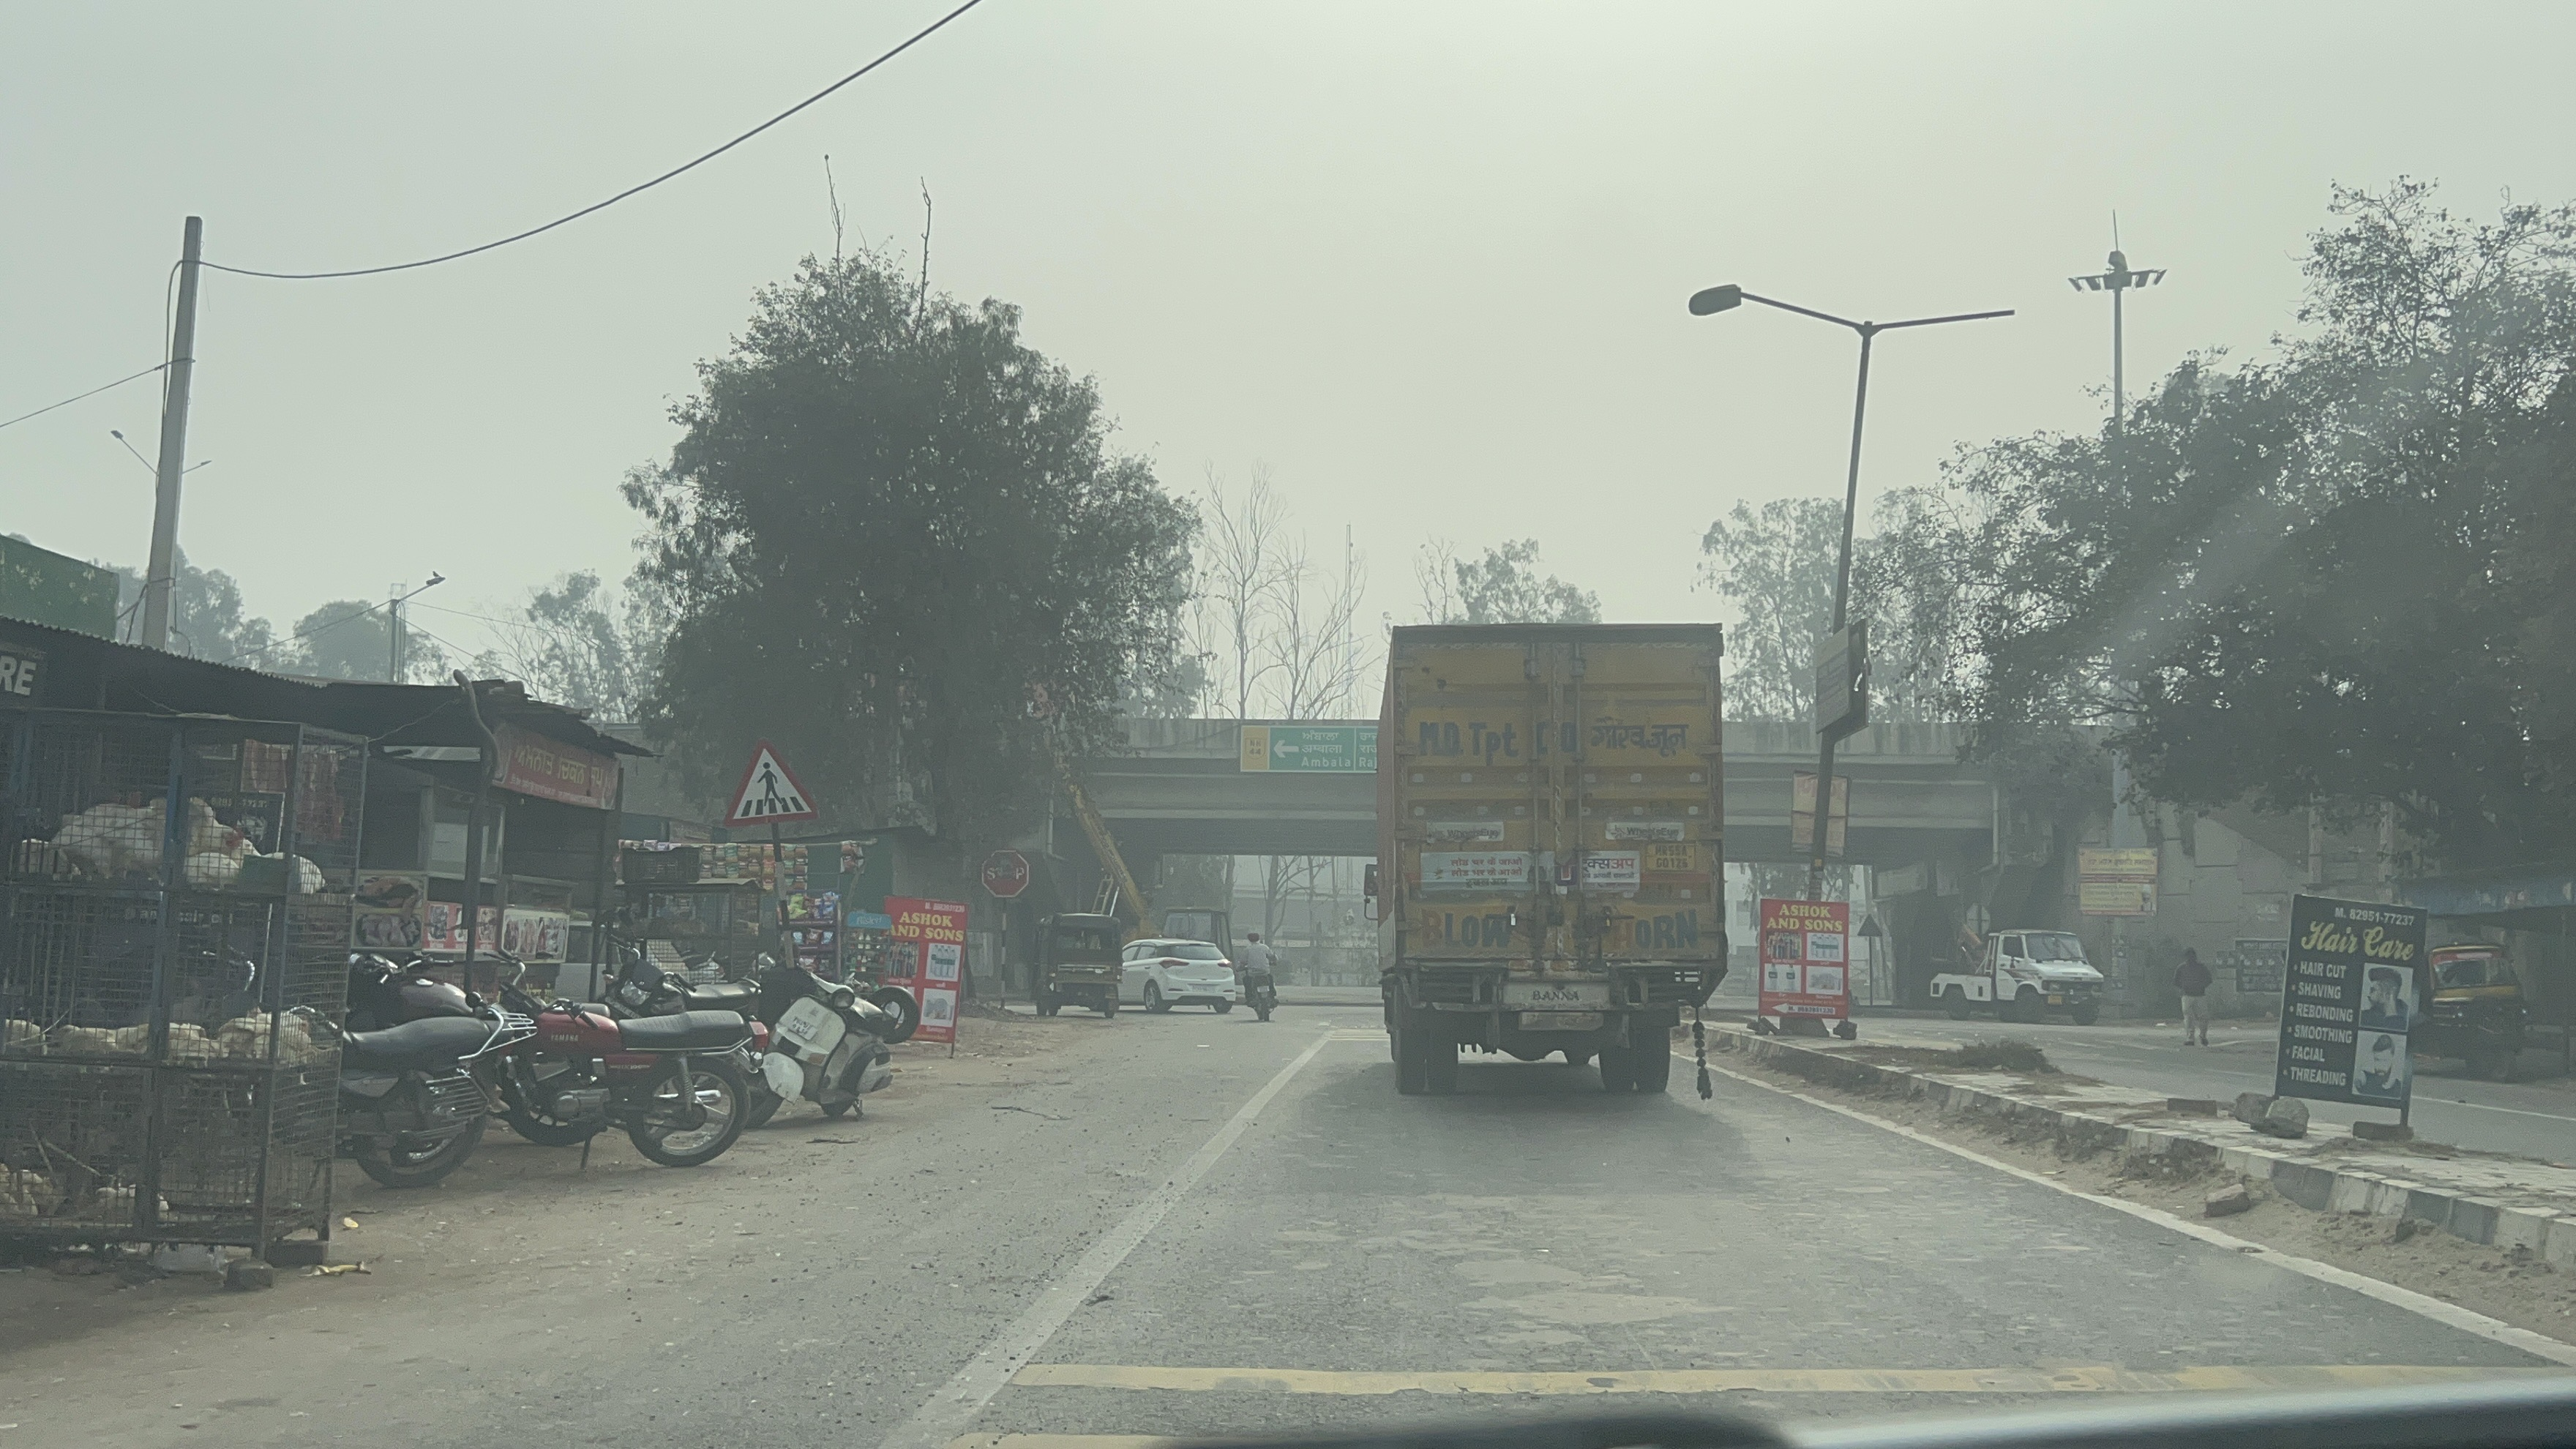Informatory: (1224, 713, 1380, 782)
Mandatory: (966, 828, 1046, 913)
Warning: (706, 731, 837, 840)
